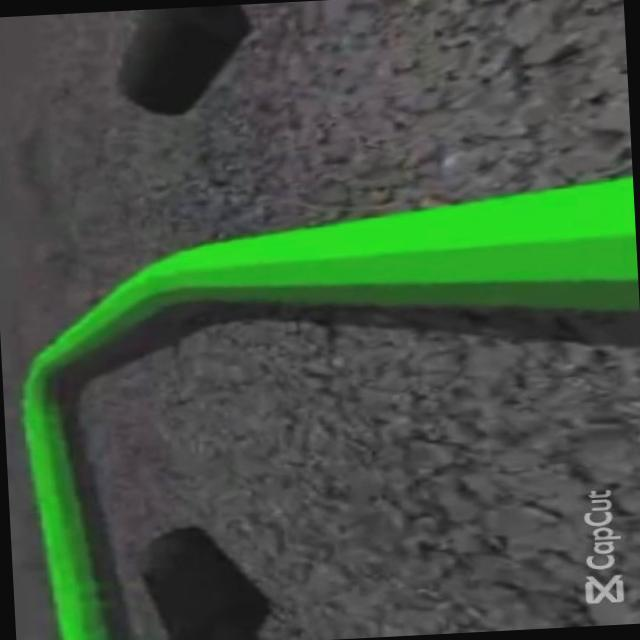gas: (123, 174, 640, 342)
